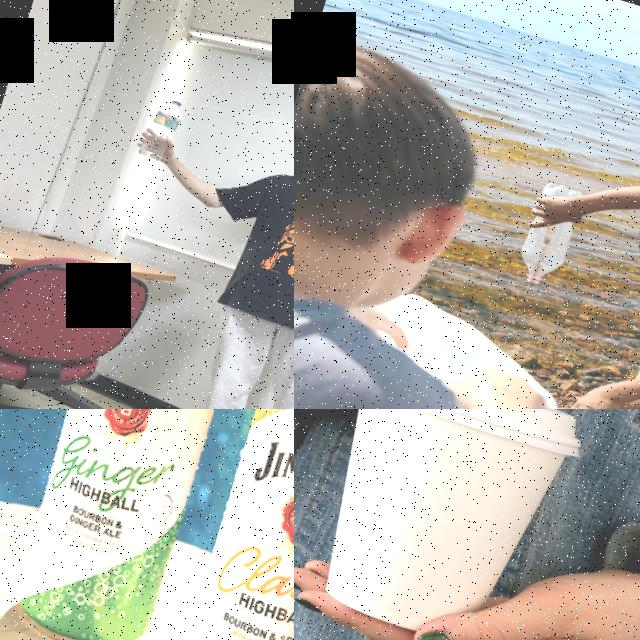bottle: (506, 174, 592, 294), (136, 94, 187, 164)
can: (0, 409, 258, 640), (149, 409, 294, 640)
cup: (294, 409, 598, 640)
